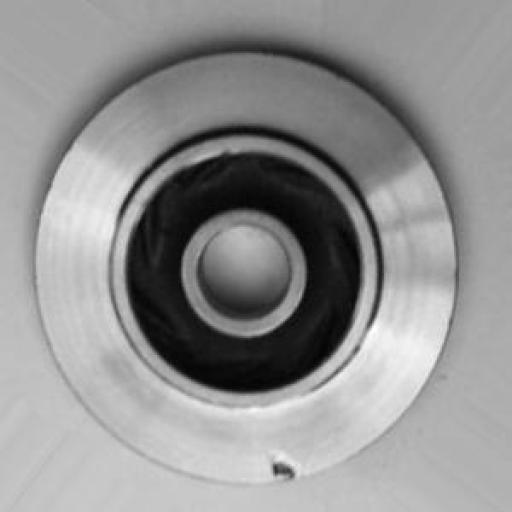defect: (251, 434, 322, 502)
